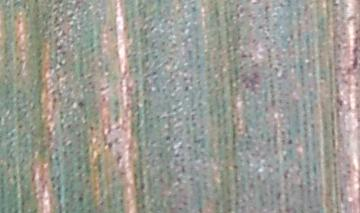tarspot: (76, 100, 85, 107), (77, 196, 84, 202), (287, 138, 293, 145)
